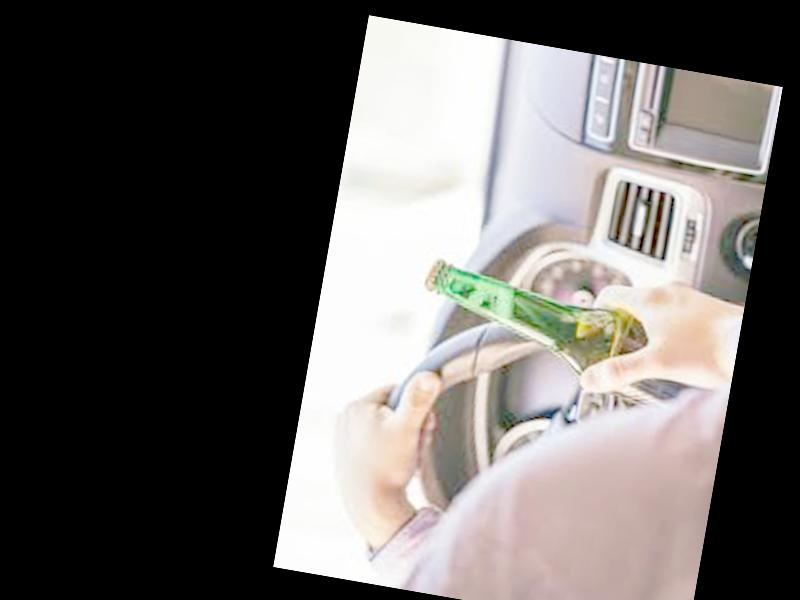Beer: (407, 255, 730, 422)
